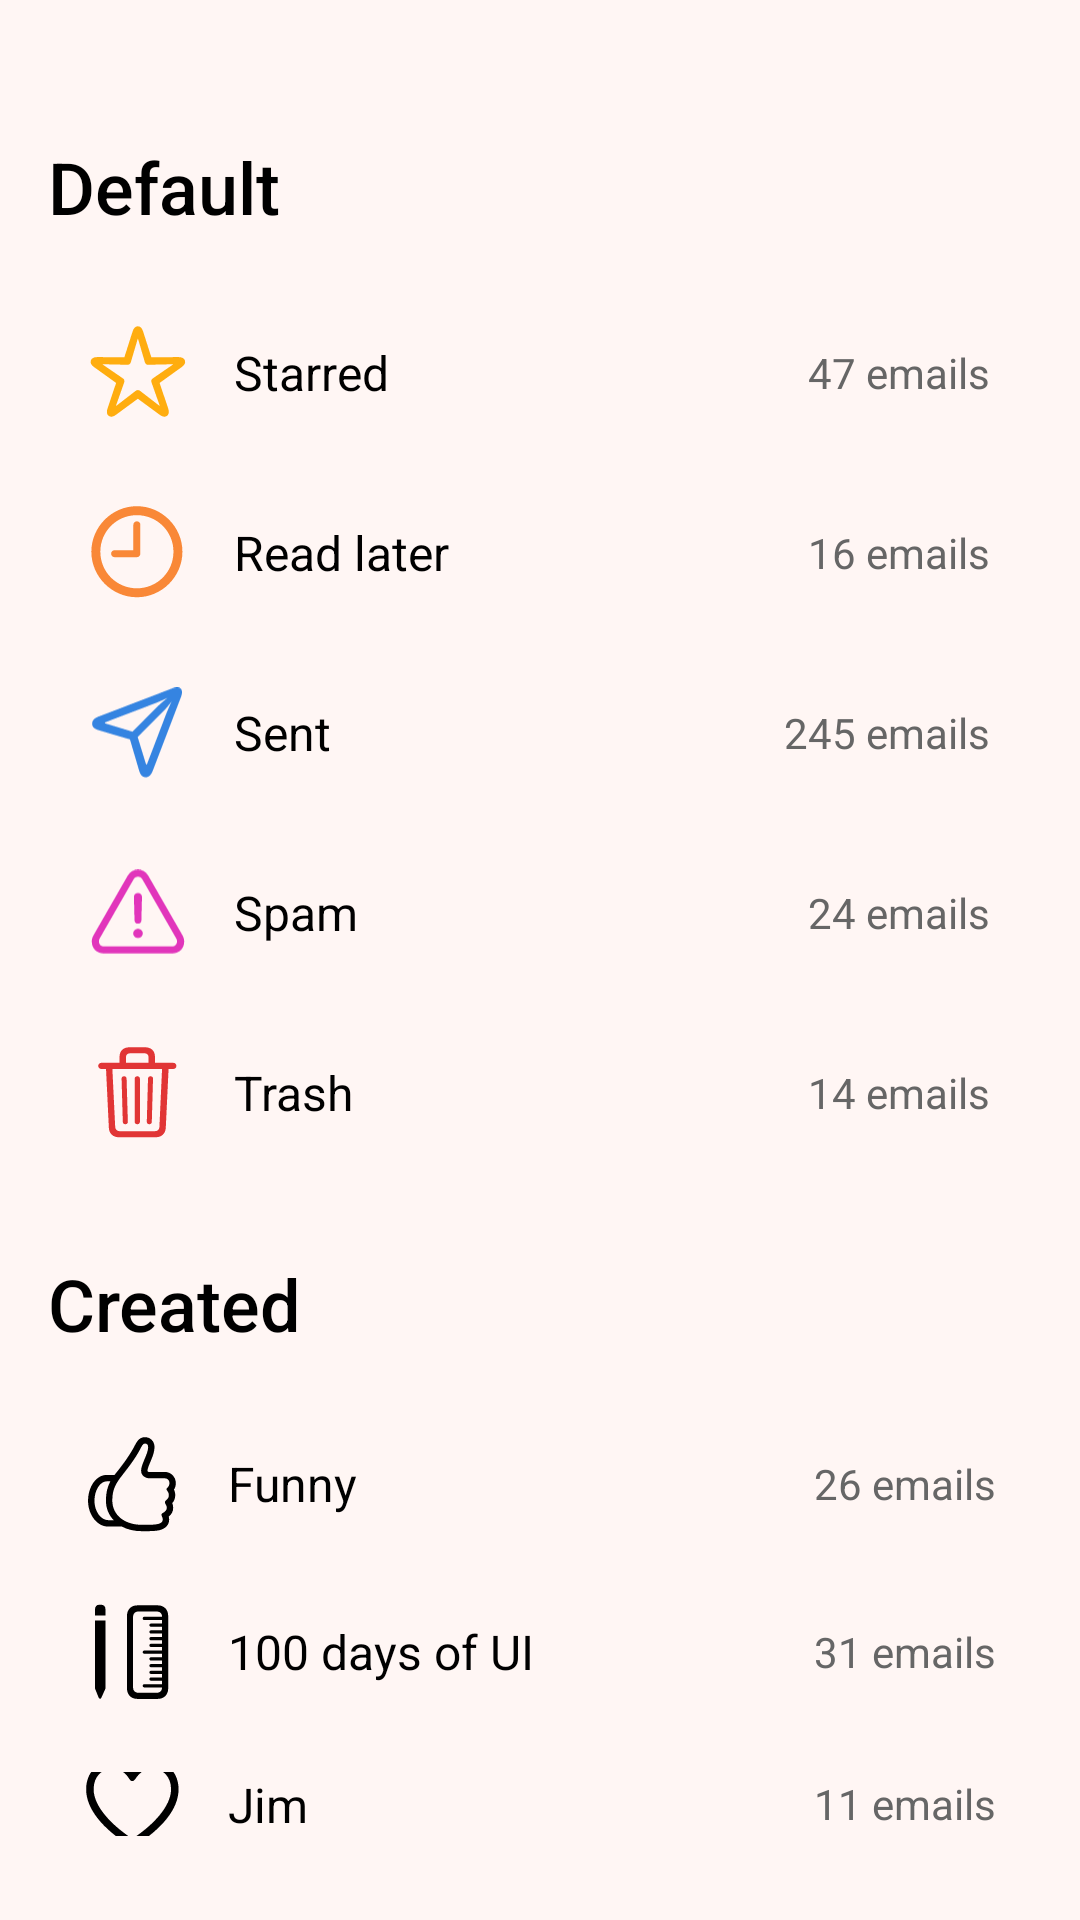

Icons on this 1080*1920 Android screen, each with its box as (x1, y1, x2, y2):
clock: (91, 506, 183, 598)
heart: (86, 1772, 179, 1836)
like: (88, 1437, 176, 1532)
paperplane: (92, 687, 182, 778)
pencil and ruler: (95, 1604, 169, 1699)
warning: (91, 869, 185, 954)
